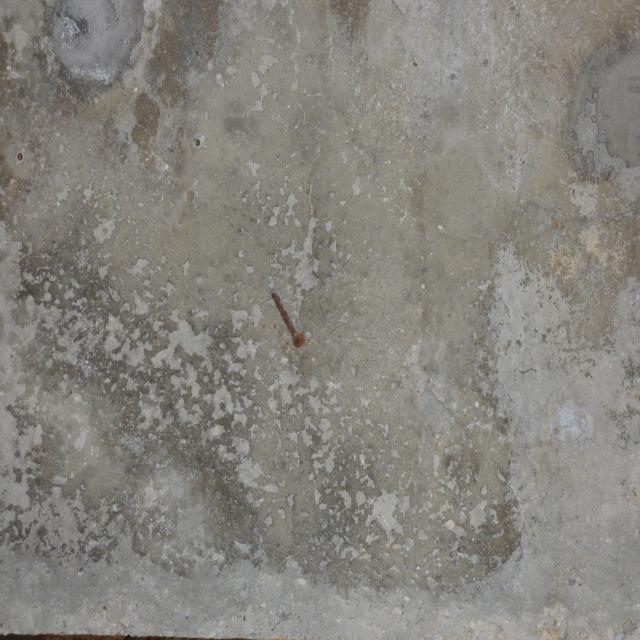corrosion: (265, 287, 319, 368)
